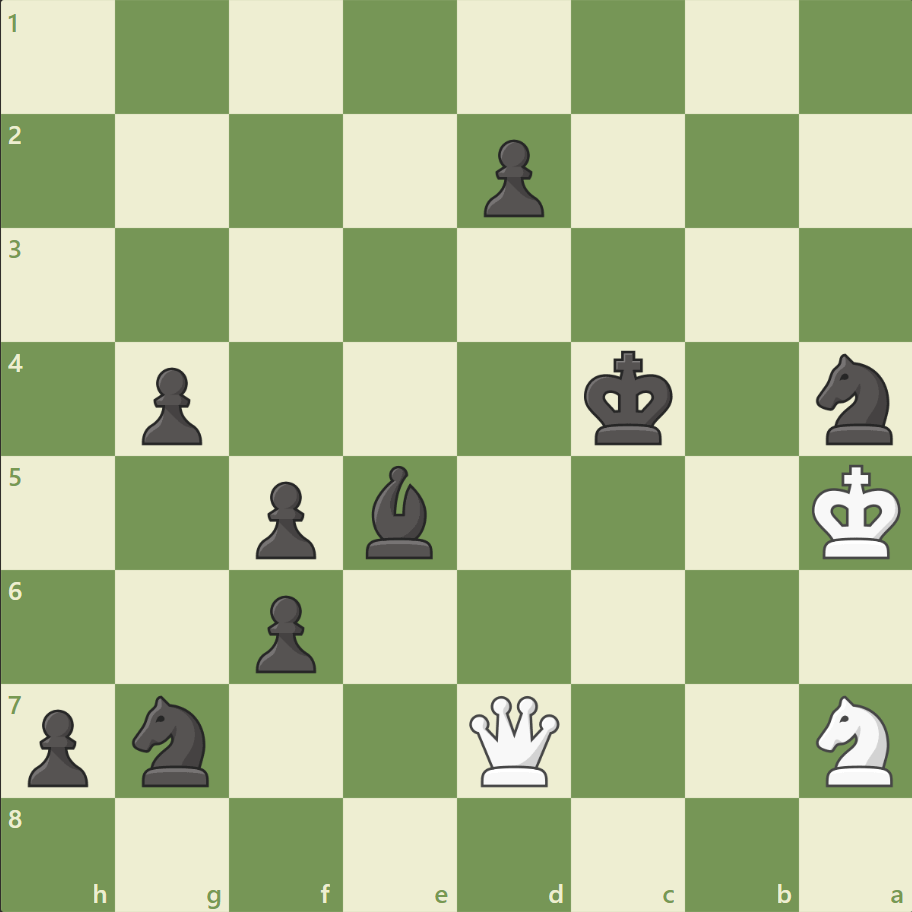K: (806, 458, 906, 566)
N: (806, 688, 903, 791)
Q: (464, 690, 563, 789)
b: (358, 460, 442, 563)
k: (579, 344, 679, 452)
n: (124, 688, 222, 791), (806, 348, 903, 450)
p: (20, 700, 95, 791), (247, 586, 322, 677), (247, 473, 322, 564), (133, 359, 208, 450), (474, 132, 549, 223)
